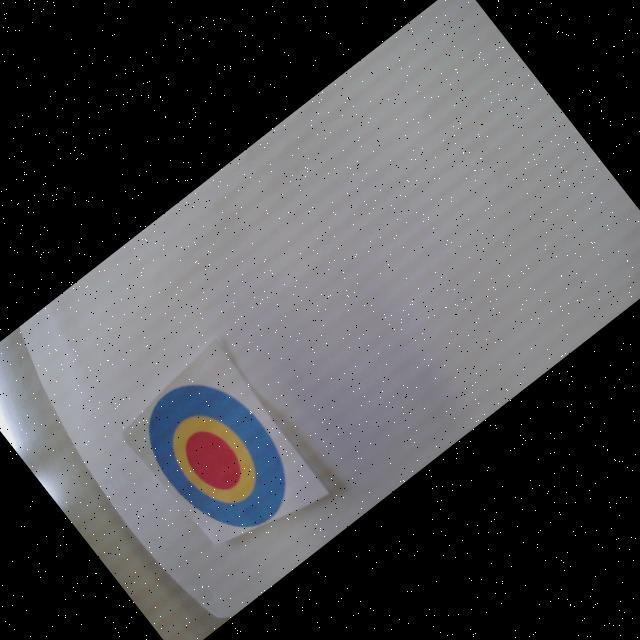COGNITIVE: (124, 357, 313, 556)
